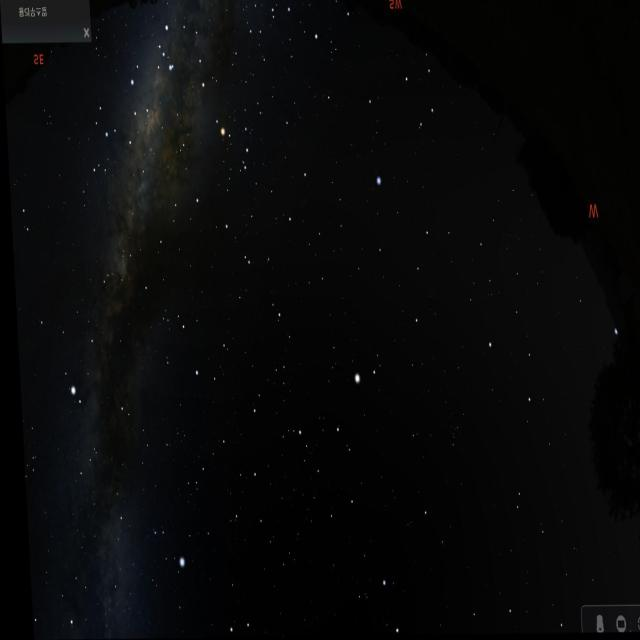aquila: (51, 260, 136, 431)
bootes: (291, 326, 391, 527)
leo: (473, 289, 622, 441)
lyra: (144, 519, 186, 572)
sagittarius: (80, 54, 162, 176)
scorpius: (153, 12, 257, 185)
